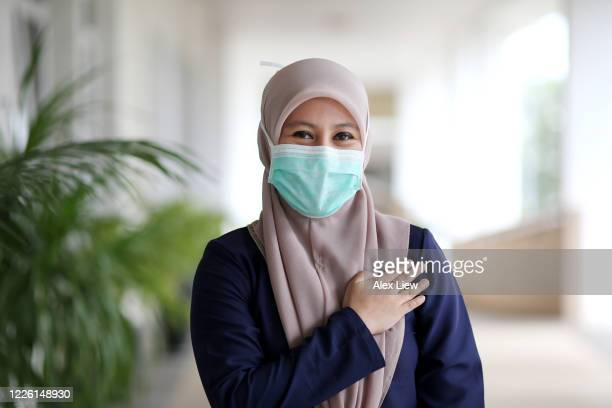mask: (263, 143, 365, 221)
person: (189, 55, 491, 408)
